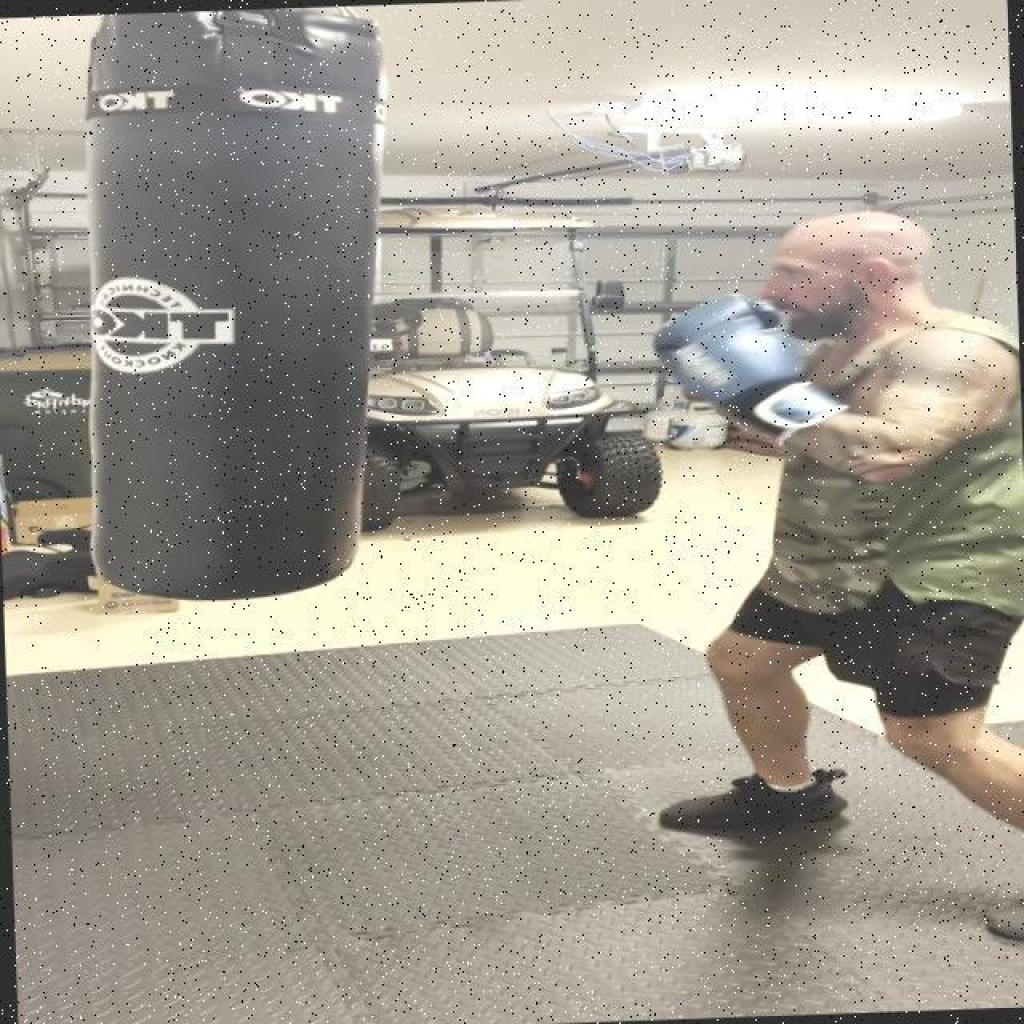no punch: (8, 8, 410, 645)
